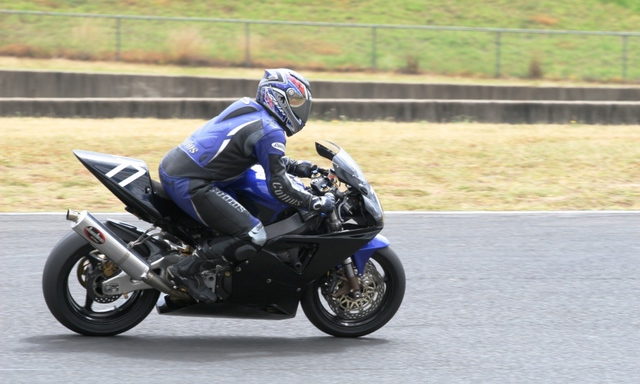helmet: (252, 72, 319, 124)
